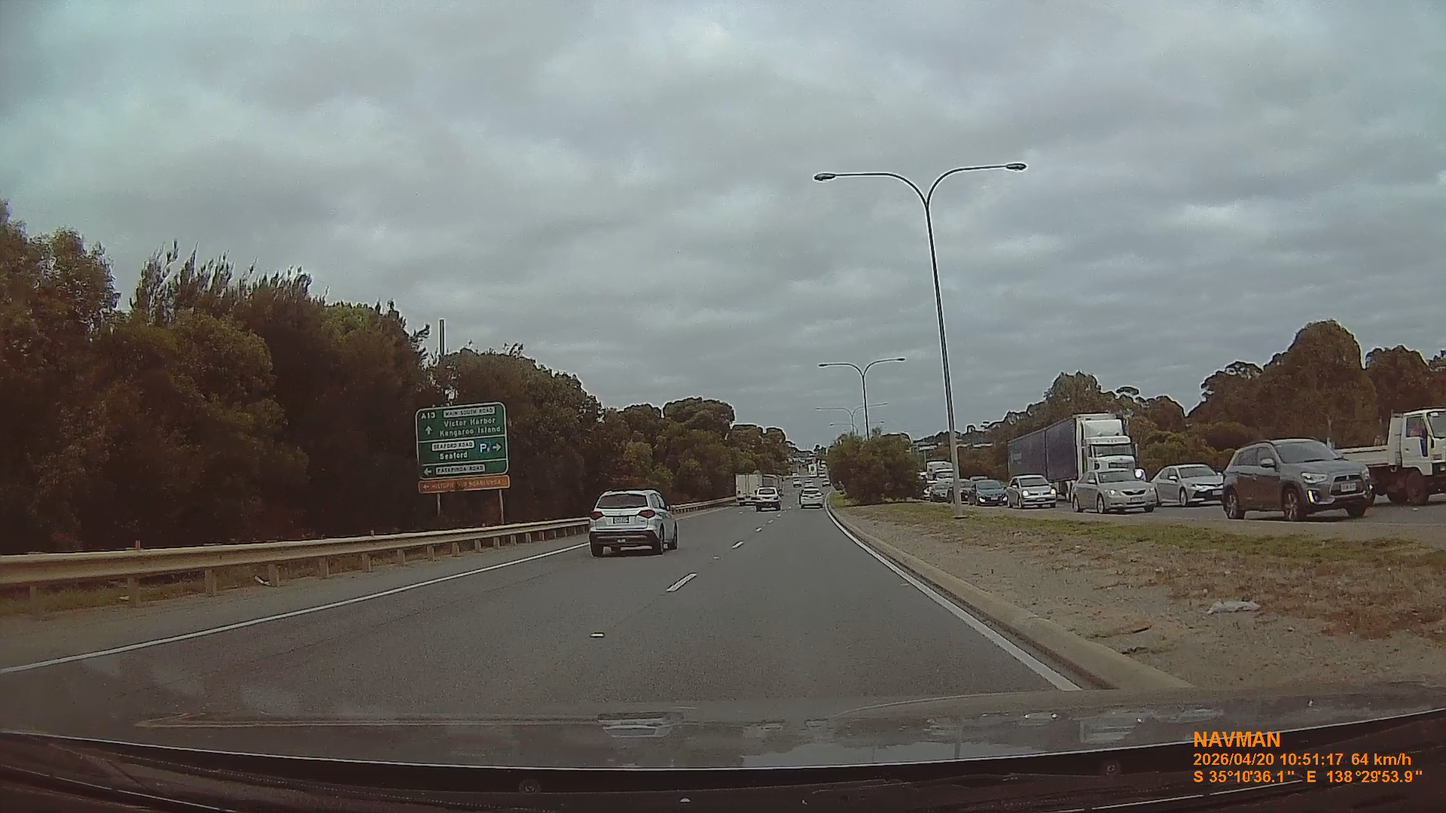road barriers: (0, 518, 587, 617), (669, 495, 754, 513)
